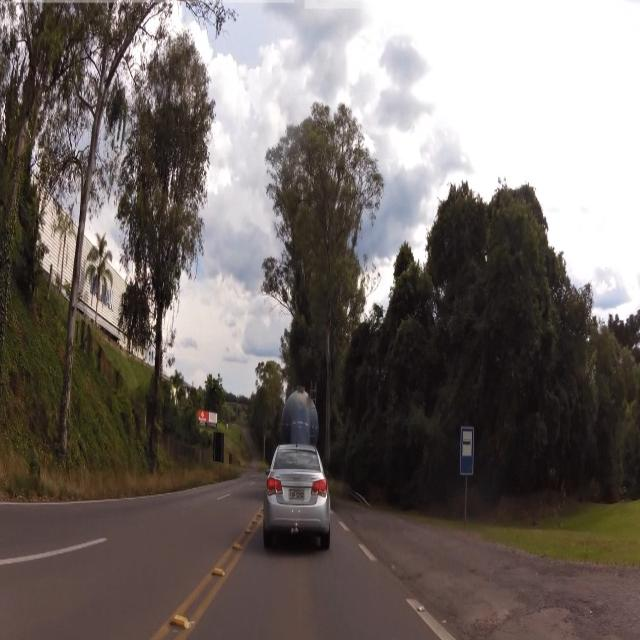S-14: (460, 423, 476, 482)
